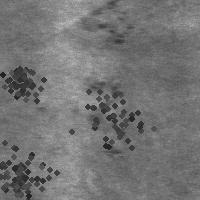rolled-in_scale: (54, 58, 174, 178), (86, 72, 131, 161), (0, 135, 55, 200), (0, 56, 45, 106), (81, 1, 132, 45)
